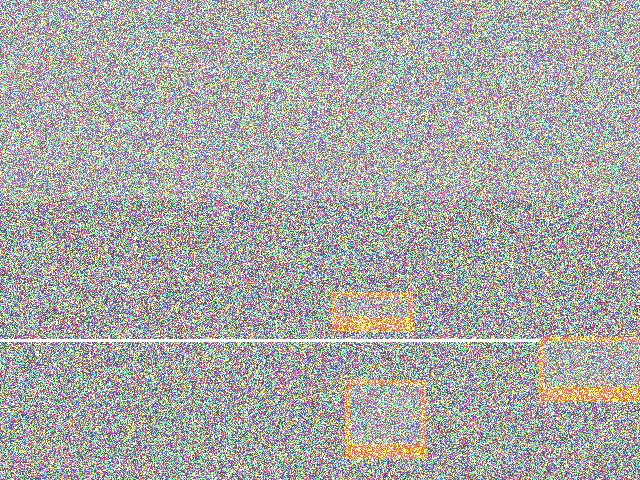bus: (411, 339, 529, 477)
motorcycle: (101, 291, 245, 379)
